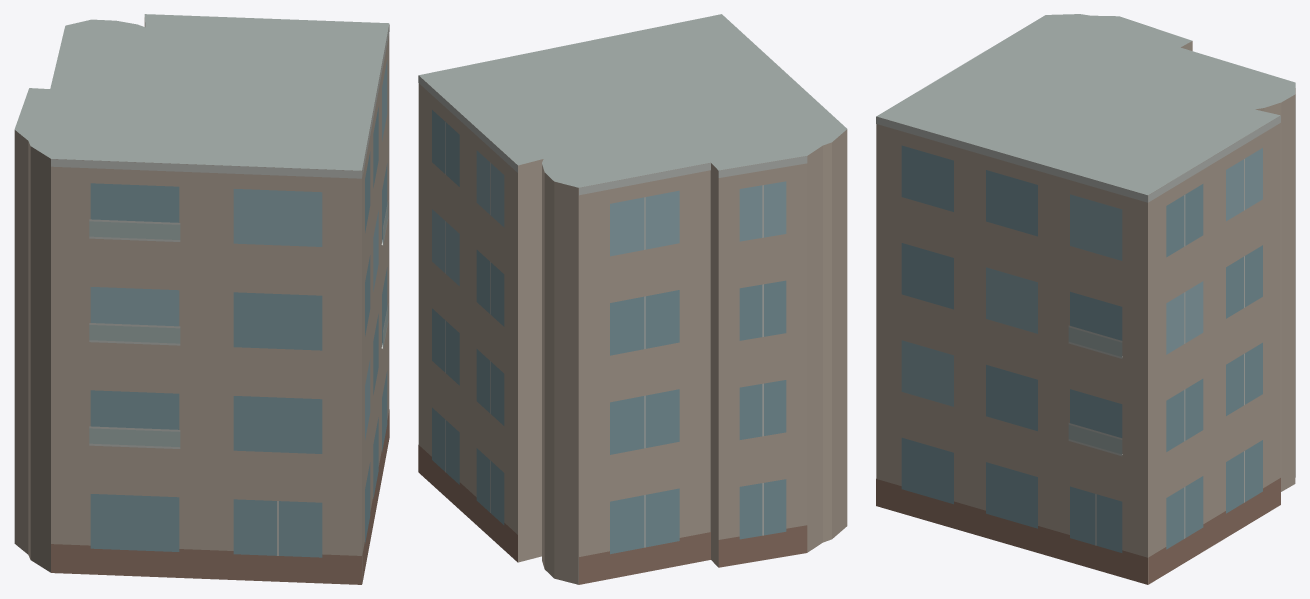
File: survey-upis-32725093.glb
3 renders of one model, left to right at view 1: azimuth 30°, elevation 25°; view 2: azimuth 150°, elevation 25°; view 3: azimuth 270°, elevation 25°, orthographic. The views are drawn at different scales.
Visible parts, largest first — view 1: survey-upis-32725093.tmp; view 2: survey-upis-32725093.tmp; view 3: survey-upis-32725093.tmp.
Boxes of the visible parts, x1,y1,x2,y2 form: survey-upis-32725093.tmp: (14,14,389,584); survey-upis-32725093.tmp: (418,14,847,584); survey-upis-32725093.tmp: (876,14,1295,584).
Bounding box in the file's own units: 12.79 × 12.8 × 12.5.
